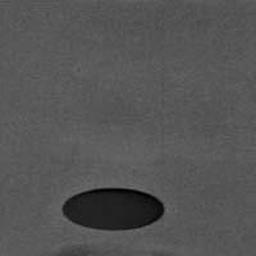Punching: (61, 187, 166, 232)
